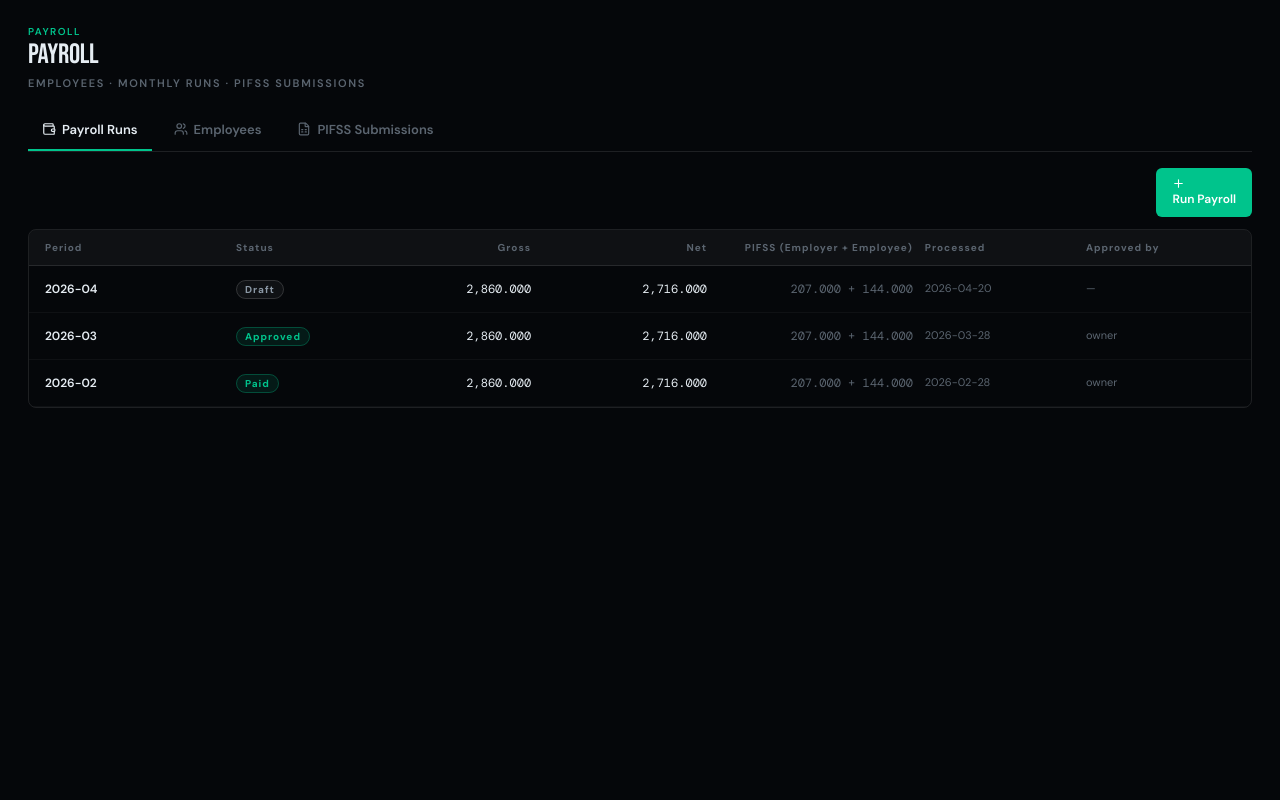
Test: PayrollScreen — AUDIT-ACC-013 › HASEEB-221 payslip: Download Payslip button renders for each employee row on an APPROVED run (Owner)
What coordinates should you click on to do the following:
click the button with aria-label "Open payroll run for 2026-03"
I would click on:
 (640, 336)
Its box is [29,313,1251,360].
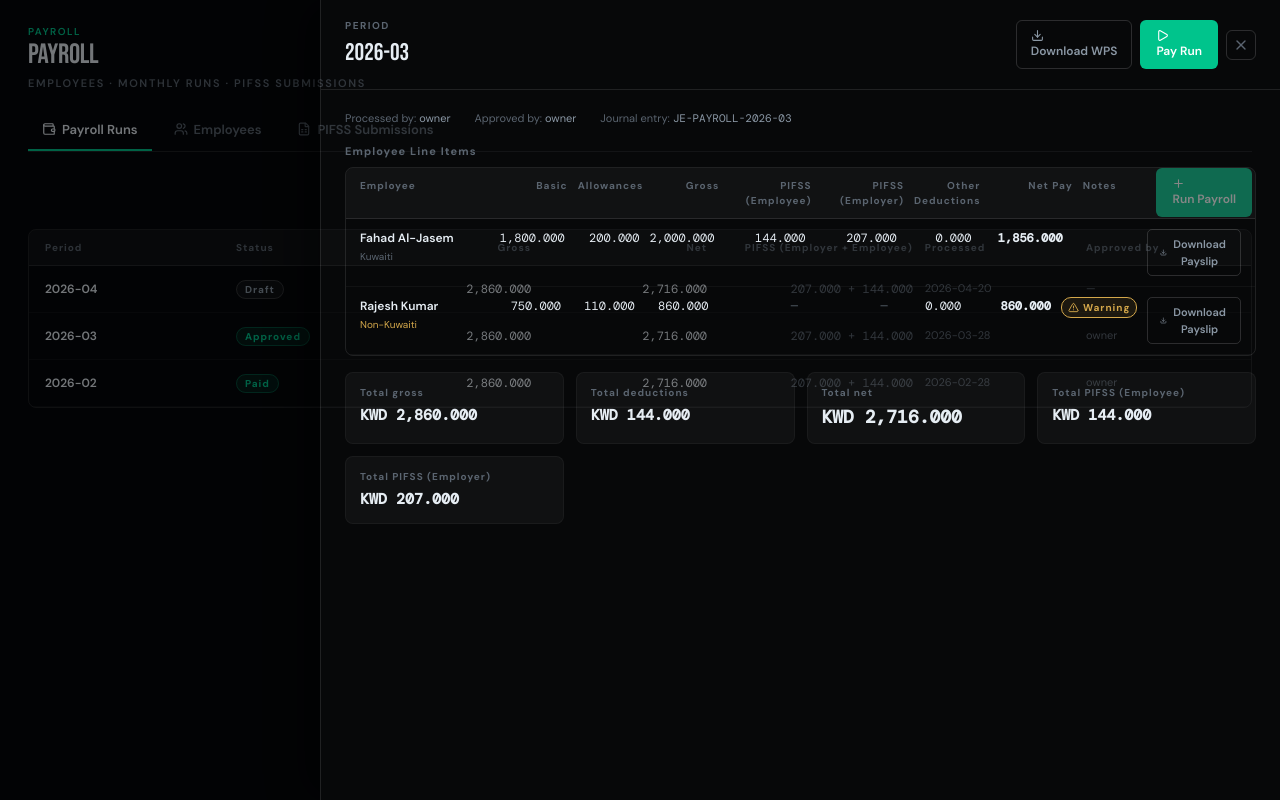
Now the button with test id "download-payslip-EMP-001" is shown, box [1148,229,1241,276]
Now the button with test id "download-payslip-EMP-004" is shown, box [1148,297,1241,344]
